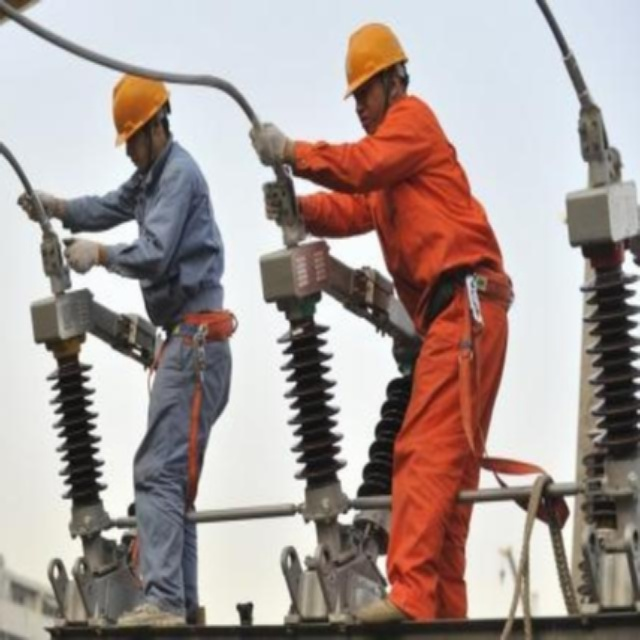Con_Casco: (341, 23, 410, 137)
